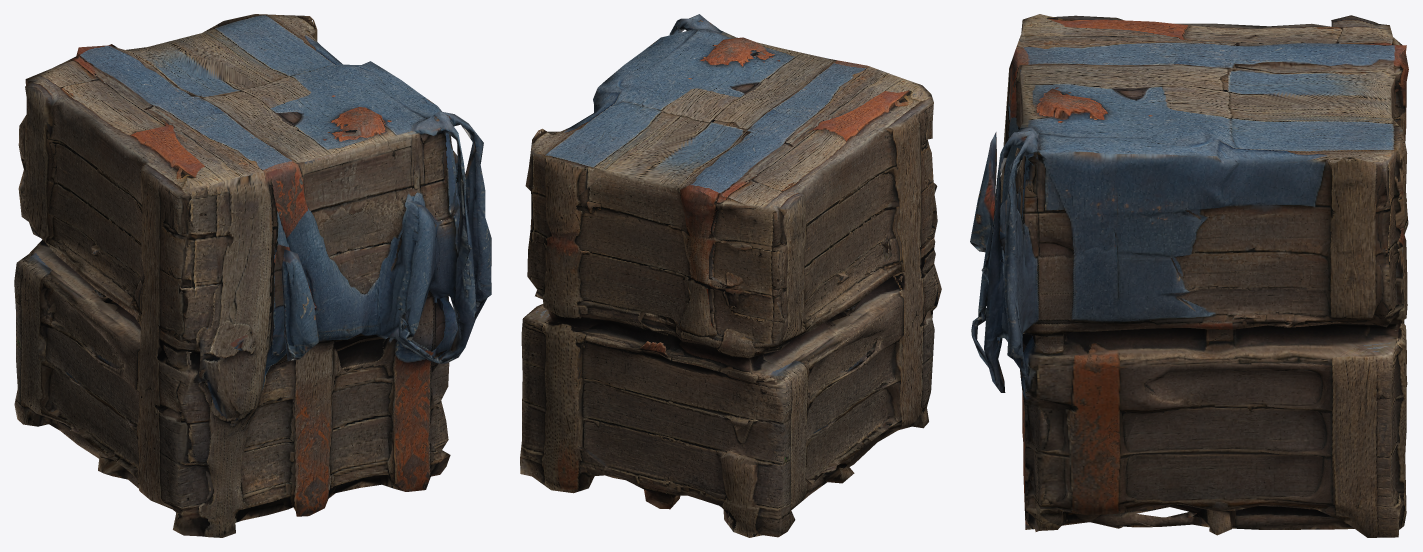
The model's file is prop_barricade.glb.
3 views of the same model, side by side, from view 1: azimuth 30°, elevation 25°; view 2: azimuth 150°, elevation 25°; view 3: azimuth 270°, elevation 25° (orthographic). The views are drawn at different scales.
Visible parts, largest first — view 1: texture_mapping; view 2: texture_mapping; view 3: texture_mapping.
Part boxes in pixels (bbox=[...]): texture_mapping: bbox=[14, 14, 491, 537]; texture_mapping: bbox=[520, 14, 941, 537]; texture_mapping: bbox=[970, 14, 1408, 537].
Size of the model in its own units: 0.8223 by 0.9458 by 0.9219.
1 material, 1 textured.
